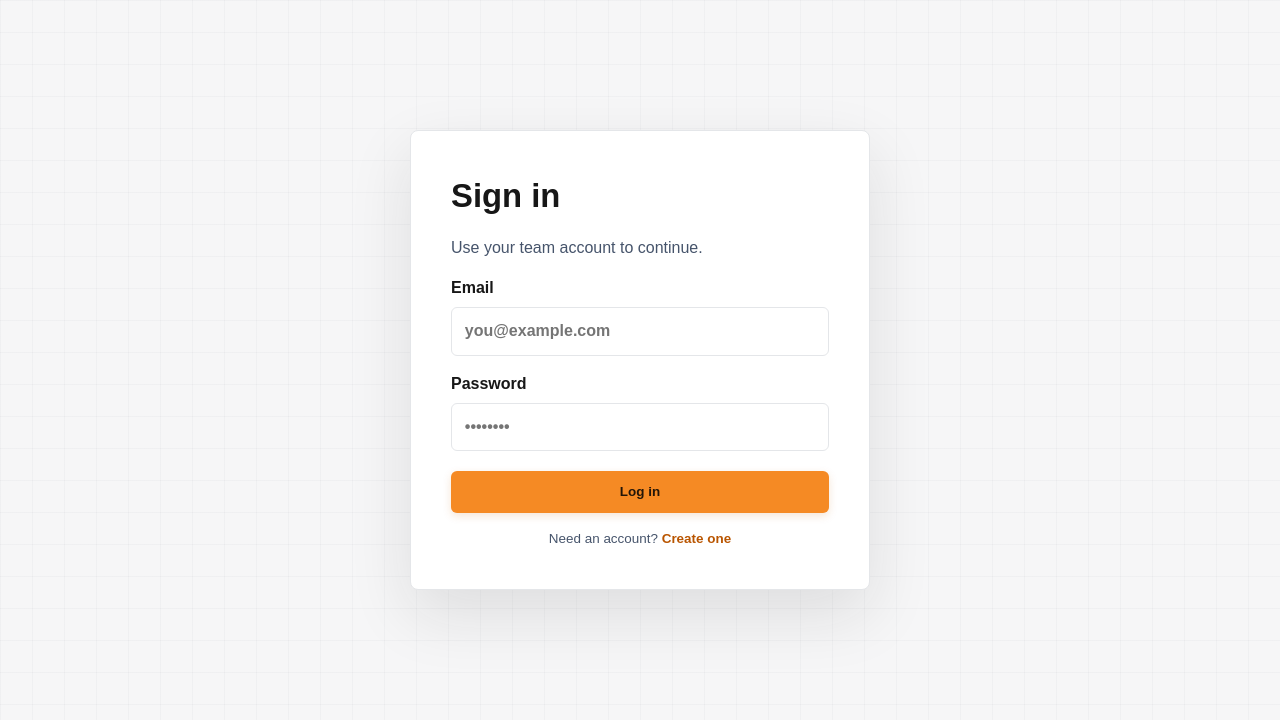
Login page › submits credentials and shows errors for failed login
Step 1. Type "user@example.com" into the field labelled "Email" → (640, 331), box [451,307,829,356]
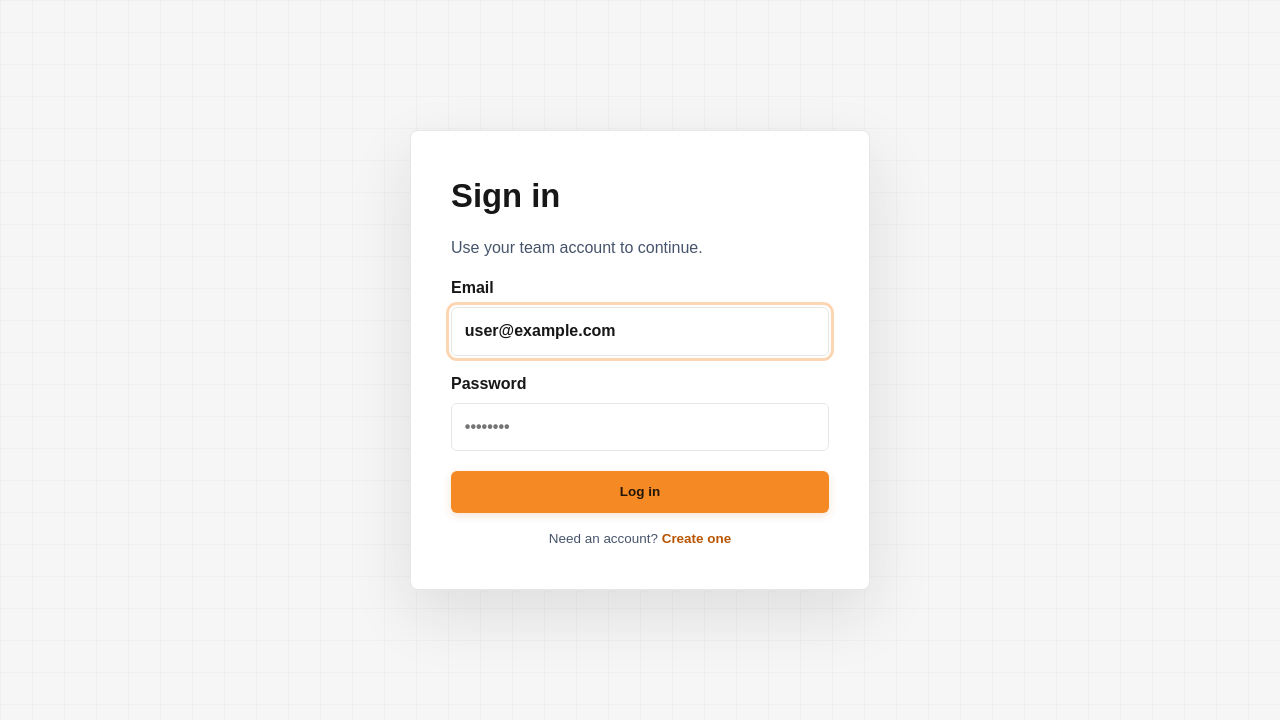
Step 2. Type "secret123" into the password field labelled "Password" → (640, 427), box [451,403,829,451]
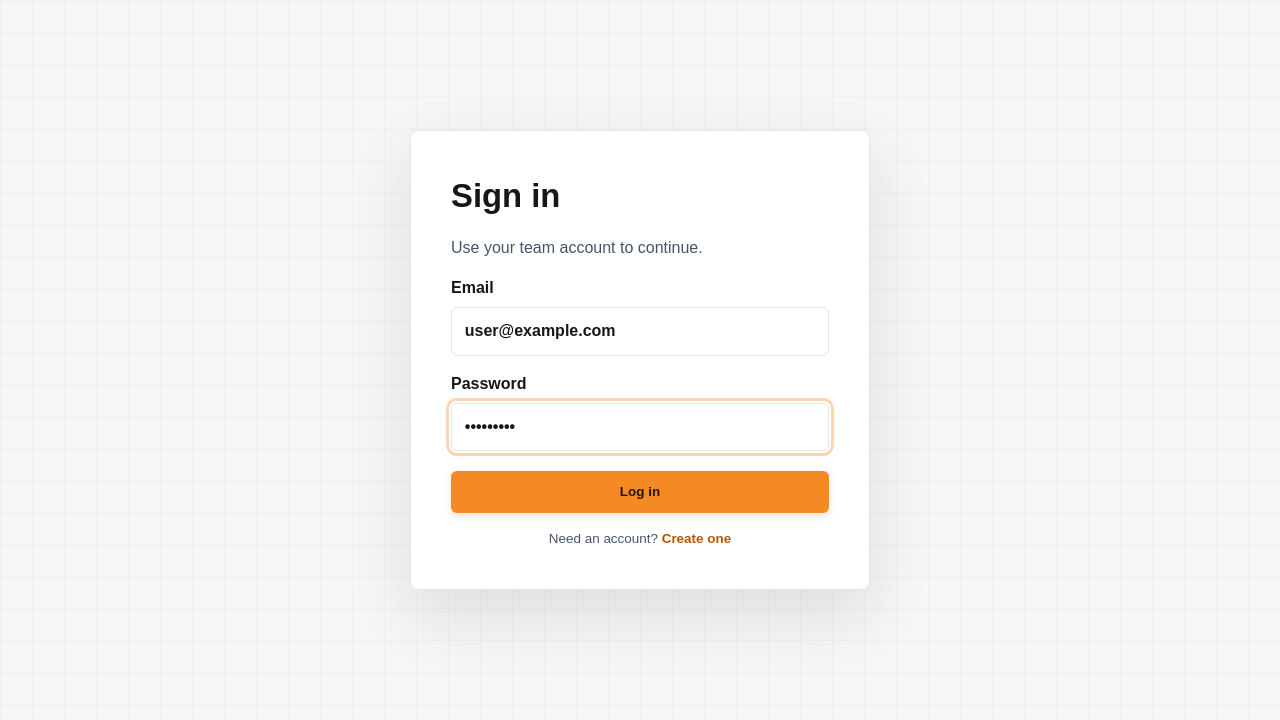
Step 3. Click the button "Log in" → (640, 492), box [451,471,829,513]
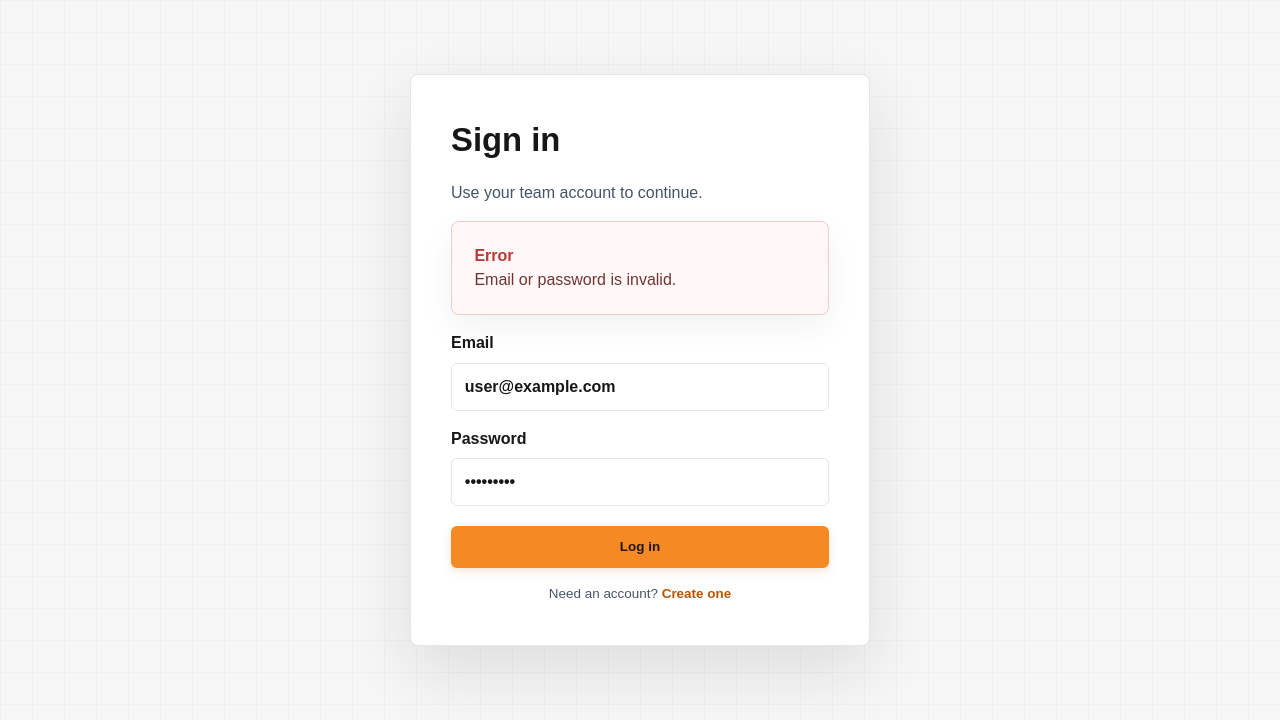
Result: the text "Email or password is invalid." is shown at [474,271,676,288]
